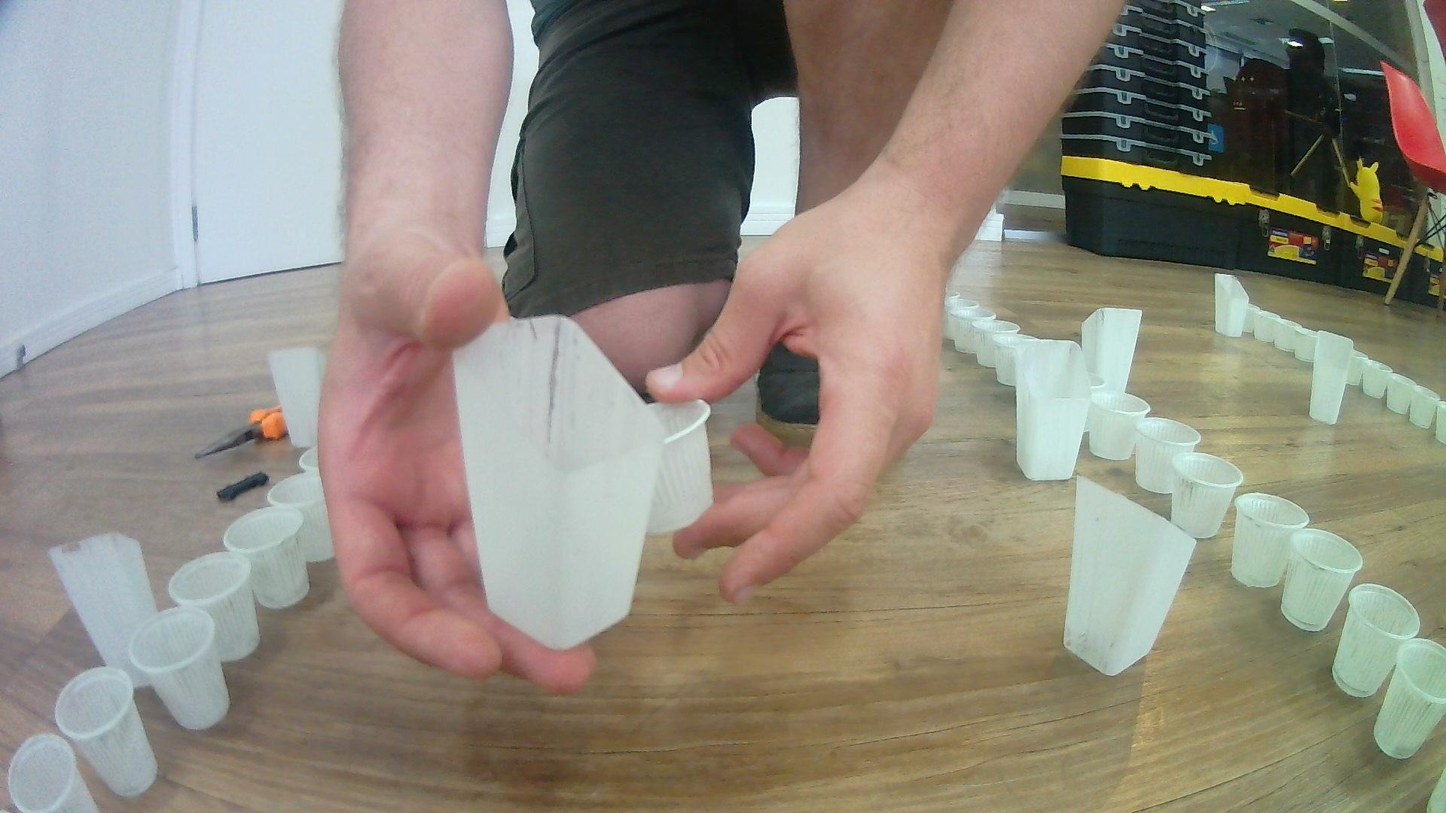erva_daninha: (447, 312, 656, 653), (1062, 473, 1197, 678), (47, 531, 171, 690), (1011, 338, 1086, 482), (264, 347, 327, 452), (1081, 306, 1143, 397), (1308, 329, 1356, 427), (1213, 273, 1249, 338)
planta: (54, 665, 158, 798), (128, 604, 233, 732), (167, 550, 261, 664), (1331, 583, 1420, 698), (640, 399, 715, 534), (222, 504, 311, 609), (1371, 638, 1446, 759), (1280, 528, 1363, 633), (1230, 492, 1310, 589), (5, 732, 99, 813), (1170, 452, 1245, 540), (266, 474, 335, 562), (1133, 417, 1202, 495), (1088, 392, 1151, 462), (972, 318, 1022, 368), (992, 332, 1034, 386), (1074, 372, 1105, 439), (952, 308, 997, 354), (941, 298, 981, 340), (1409, 386, 1441, 431), (1386, 373, 1419, 415), (1362, 359, 1394, 399), (1241, 306, 1274, 343), (1274, 321, 1306, 352), (1293, 329, 1319, 362), (1347, 350, 1369, 387), (1259, 312, 1283, 343), (298, 446, 320, 474), (1435, 401, 1446, 445), (942, 291, 961, 304)
